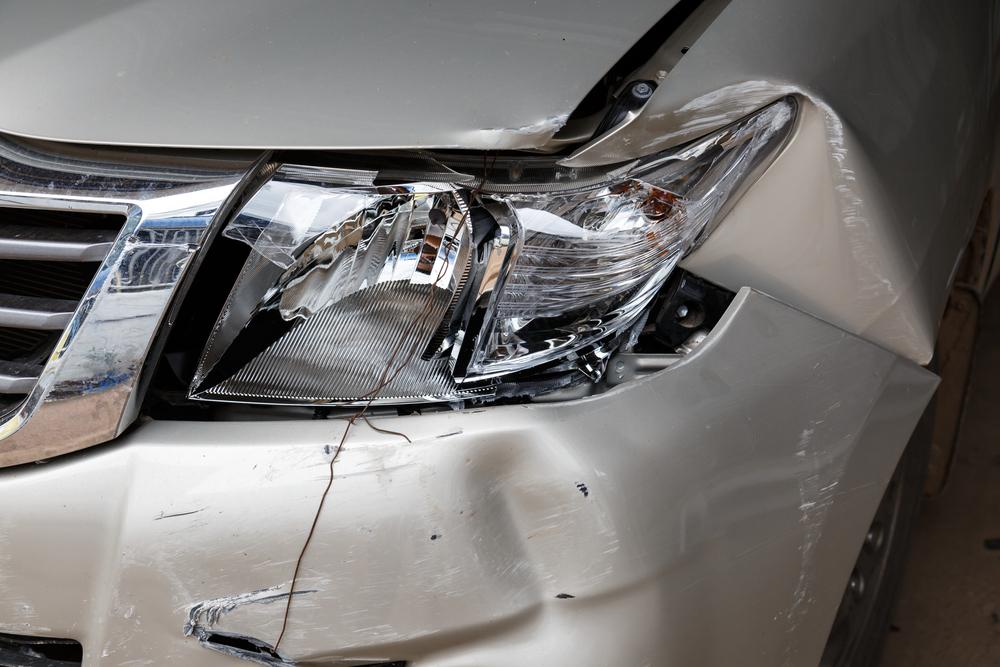crack: (201, 633, 297, 667)
dent: (691, 98, 925, 363), (465, 430, 605, 601)
lamp broken: (180, 92, 806, 416)
scratch: (0, 439, 458, 667), (780, 396, 852, 629), (645, 81, 798, 151)
